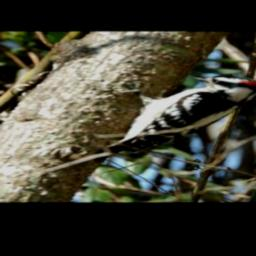Woodpecker: (105, 75, 256, 154)
